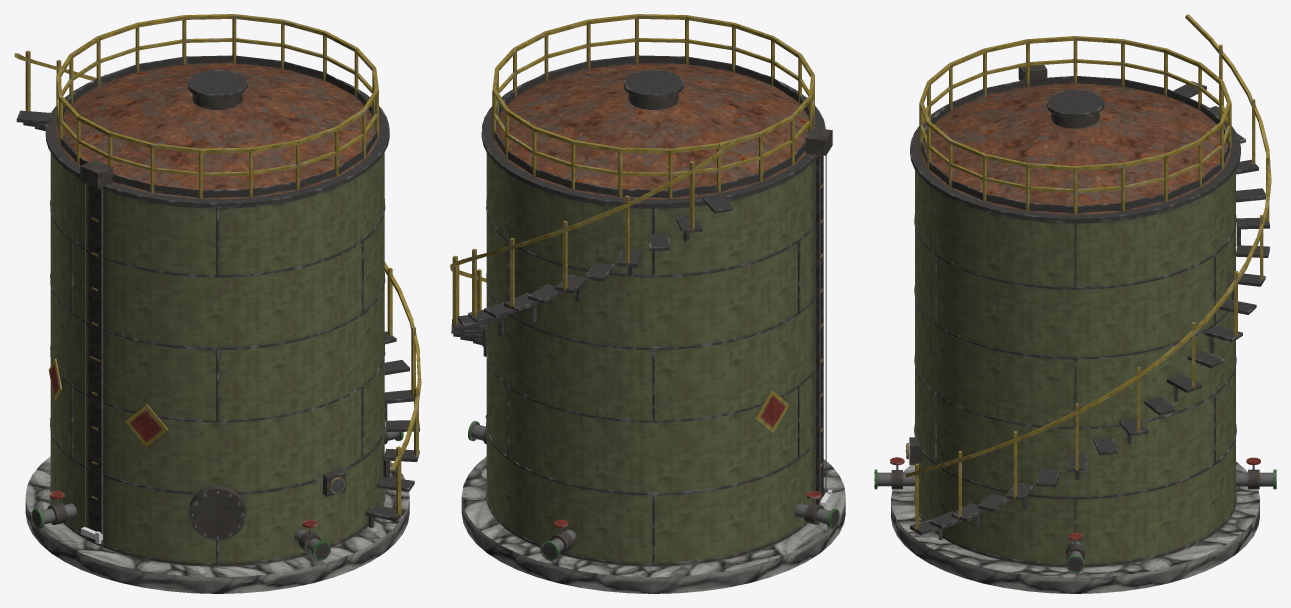
Rendered from feStorageTank_HD.fbx.
3 views of the same model, side by side, from view 1: azimuth 30°, elevation 25°; view 2: azimuth 150°, elevation 25°; view 3: azimuth 270°, elevation 25° (orthographic). The views are drawn at different scales.
Visible parts, largest first — view 1: feStorageTank_Base; view 2: feStorageTank_Base; view 3: feStorageTank_Base.
Boxes of the visible parts, x1,y1,x2,y2 form: feStorageTank_Base: [14, 14, 421, 593]; feStorageTank_Base: [450, 14, 845, 593]; feStorageTank_Base: [874, 14, 1276, 593].
Bounding box in the file's own units: 5.01 × 5.97 × 5.01.
Materials: 3 (1 with a texture image).
